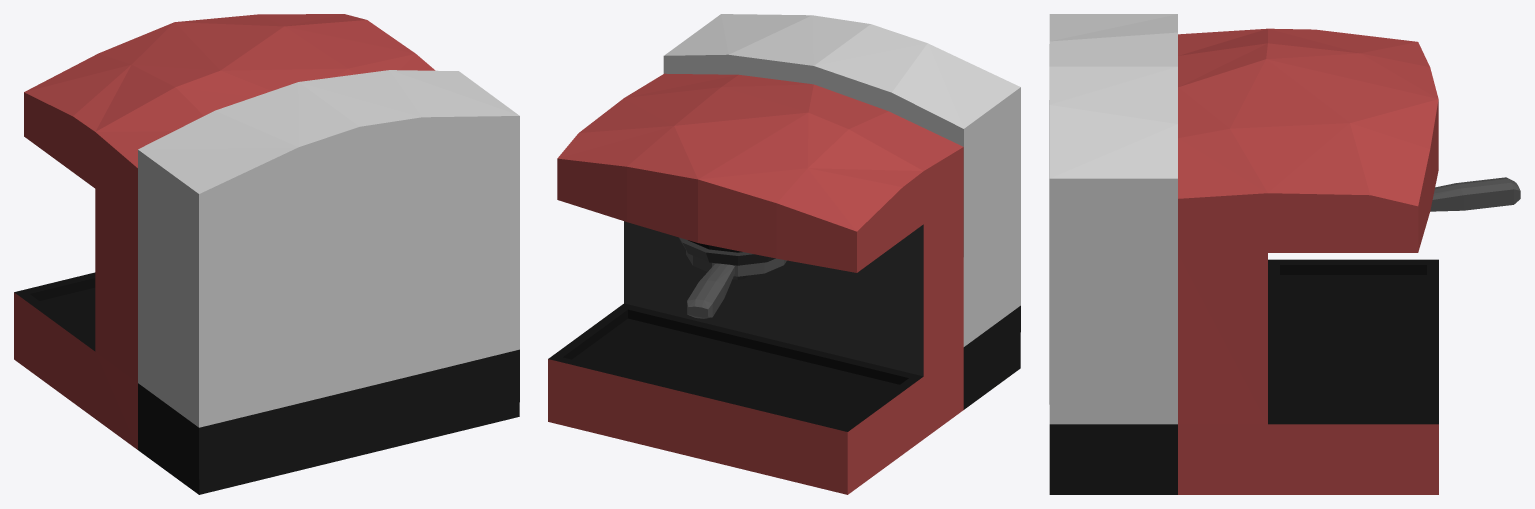
File: CoffeeMachine.fbx
The picture shows the model from 3 angles, left to right: view 1: azimuth 30°, elevation 25°; view 2: azimuth 150°, elevation 25°; view 3: azimuth 270°, elevation 25°; orthographic projection. The views are drawn at different scales.
Visible parts, largest first — view 1: Machine; view 2: Machine; view 3: Machine.
Part boxes in pixels (x1=…): Machine: x1=14, y1=14, x2=519, y2=494; Machine: x1=548, y1=14, x2=1020, y2=494; Machine: x1=1049, y1=14, x2=1520, y2=494.
Size of the model in its own units: 67.5 by 66.11 by 81.58.
